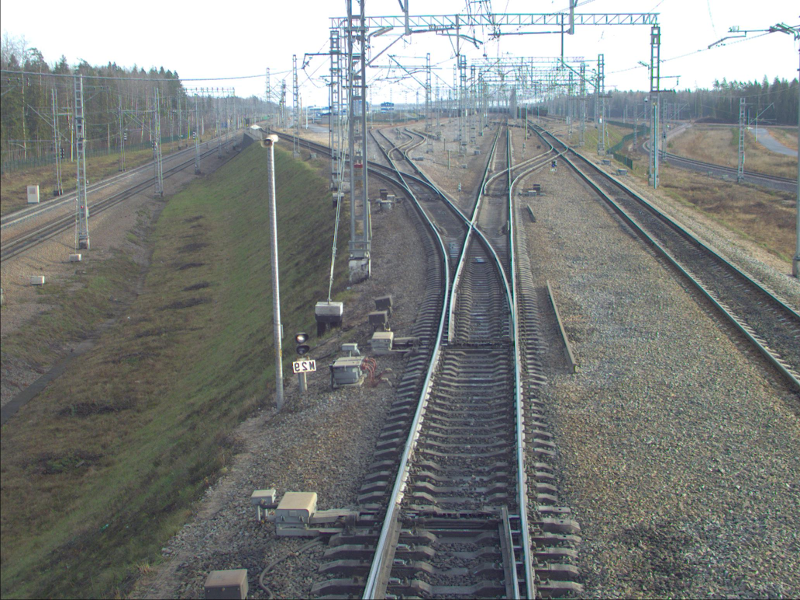left: (435, 216, 517, 344), (479, 167, 516, 197)
right: (390, 169, 446, 199)
